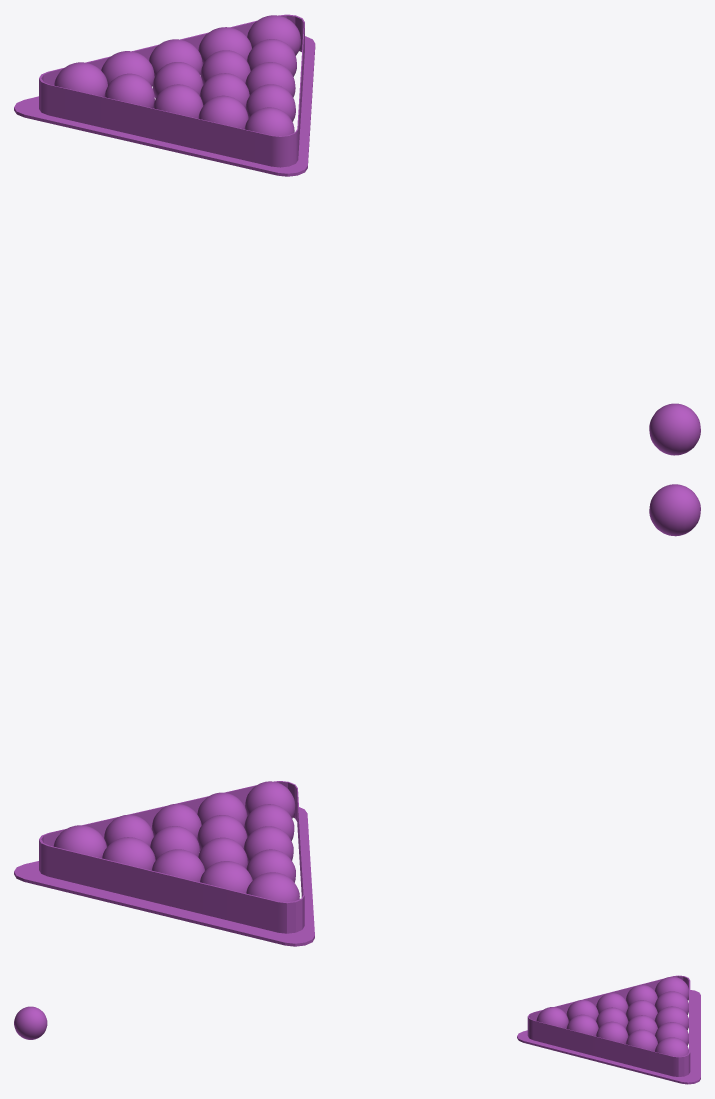
The model's file is Bolas_Triangulo.fbx.
The picture shows the model from 3 angles, top to bottom: view 1: azimuth 30°, elevation 25°; view 2: azimuth 150°, elevation 25°; view 3: azimuth 270°, elevation 25°; orthographic projection. The views are drawn at different scales.
Parts seen in each view (by area): view 1: pCube30, pSphere22, pSphere7, pSphere11, pSphere12, pSphere13, pSphere10, pSphere9, pSphere20, pSphere8, pSphere19, pSphere16 (+5 smaller); view 2: pCube30, pSphere22, pSphere10, pSphere11, pSphere9, pSphere7, pSphere8, pSphere13, pSphere21, pSphere20, pSphere17, pSphere15 (+5 smaller); view 3: pCube30, pSphere22, pSphere9, pSphere8, pSphere18, pSphere11, pSphere10, pSphere16, pSphere21, pSphere7, pSphere19, pSphere20 (+5 smaller).
Part boxes in pixels (left/top/right/bottom): pCube30: left=14, top=14, right=315, bottom=176; pSphere22: left=649, top=403, right=700, bottom=455; pSphere7: left=54, top=62, right=107, bottom=97; pSphere11: left=247, top=15, right=300, bottom=55; pSphere12: left=104, top=73, right=154, bottom=108; pSphere13: left=153, top=84, right=203, bottom=118; pSphere10: left=198, top=27, right=251, bottom=65; pSphere9: left=149, top=39, right=202, bottom=76; pSphere20: left=198, top=95, right=248, bottom=129; pSphere8: left=101, top=51, right=154, bottom=86; pSphere19: left=245, top=84, right=295, bottom=121; pSphere16: left=247, top=39, right=296, bottom=76; pCube30: left=14, top=781, right=314, bottom=946; pSphere22: left=649, top=484, right=700, bottom=536; pSphere10: left=102, top=837, right=155, bottom=870; pSphere11: left=53, top=825, right=106, bottom=858; pSphere9: left=151, top=849, right=204, bottom=882; pSphere7: left=246, top=872, right=299, bottom=902; pSphere8: left=200, top=861, right=252, bottom=893; pSphere13: left=243, top=826, right=293, bottom=864; pSphere21: left=245, top=781, right=295, bottom=818; pSphere20: left=244, top=804, right=294, bottom=840; pSphere17: left=197, top=815, right=247, bottom=850; pSphere15: left=150, top=826, right=199, bottom=860; pCube30: left=517, top=975, right=700, bottom=1084; pSphere22: left=14, top=1006, right=47, bottom=1039; pSphere9: left=654, top=1006, right=688, bottom=1030; pSphere8: left=654, top=991, right=688, bottom=1014; pSphere18: left=596, top=1021, right=628, bottom=1044; pSphere11: left=655, top=1037, right=688, bottom=1056; pSphere10: left=655, top=1022, right=688, bottom=1045; pSphere16: left=626, top=1029, right=657, bottom=1051; pSphere21: left=536, top=1007, right=568, bottom=1028; pSphere7: left=655, top=976, right=688, bottom=999; pSphere19: left=566, top=1014, right=598, bottom=1036; pSphere20: left=566, top=1000, right=598, bottom=1022.
Size of the model in its own units: 40.11 by 6.11 by 125.
